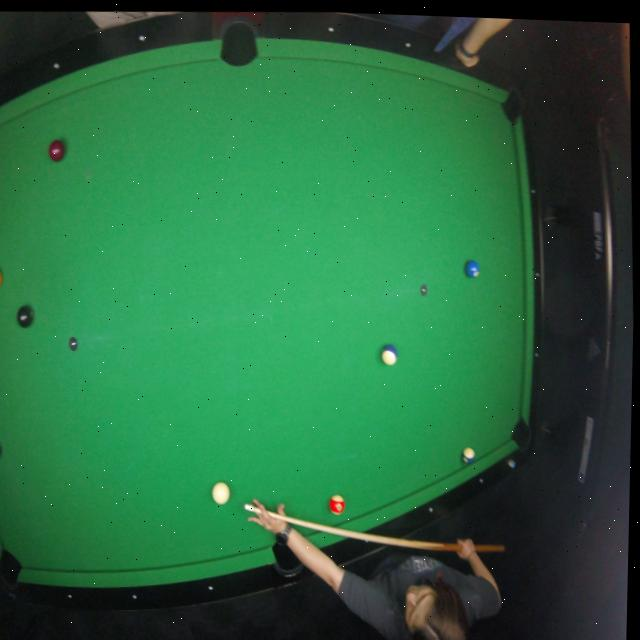cue ball: (209, 480, 233, 510)
other: (15, 301, 37, 332), (45, 136, 67, 164), (461, 257, 482, 281), (379, 341, 399, 366), (328, 490, 346, 517), (462, 445, 476, 464)
